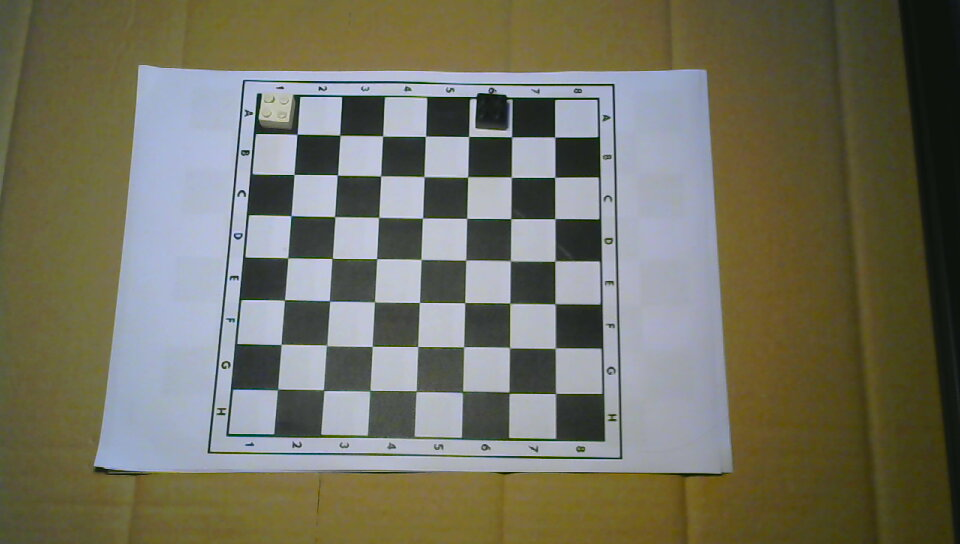bp: (474, 92, 510, 130)
wp: (258, 93, 297, 130)
